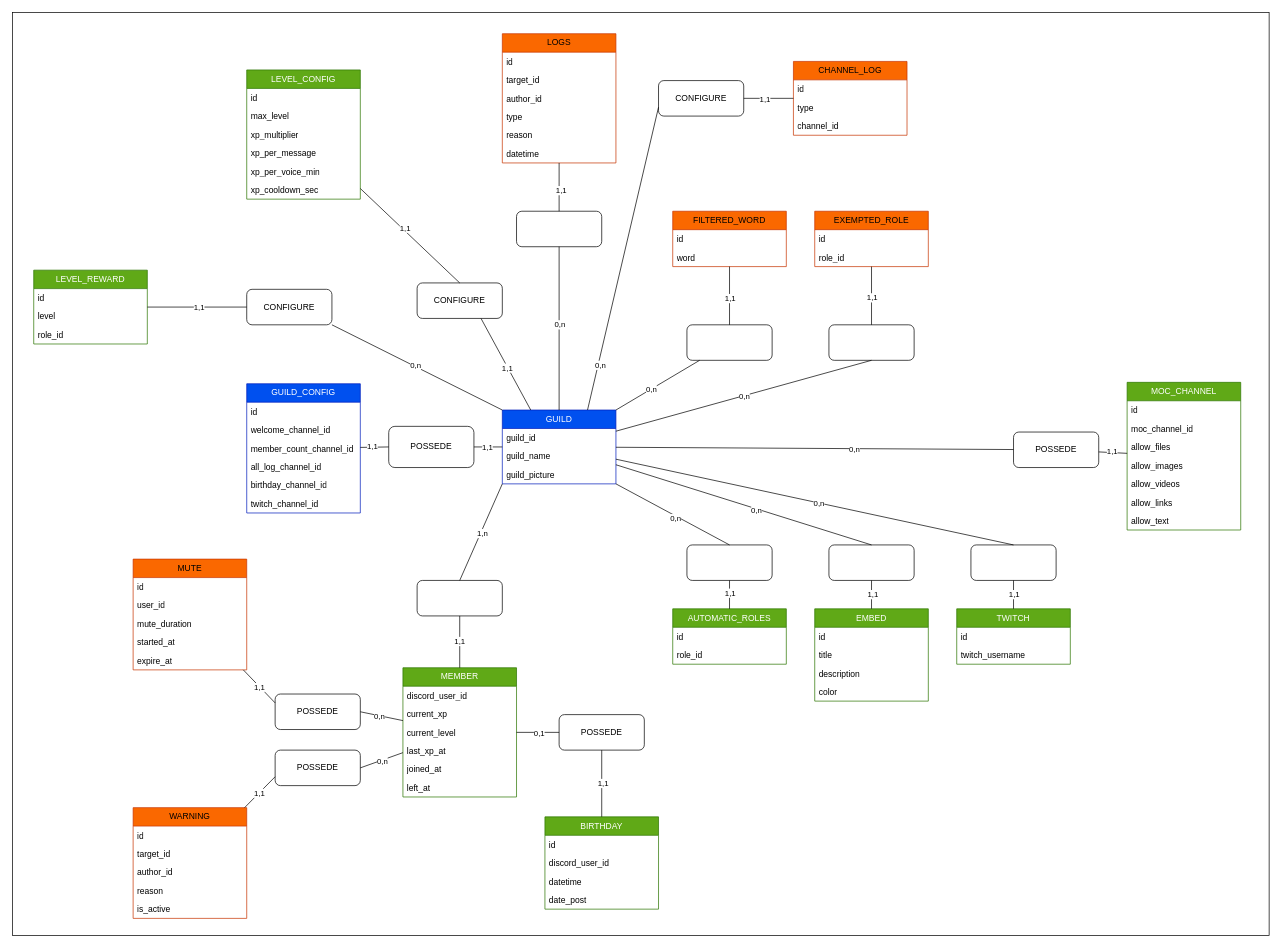
The diagram is 1282 pixels wide and 948 high, and some of its shapes have lost their labels. The shapes that lost their labels are listed below. From the top down, each one's centre as x and y in pixels, then its label:
At pixel 559 229: "ENREGISTRE".
At pixel 729 342: "INTERDIT".
At pixel 871 342: "GERE".
At pixel 729 562: "ATTRIBUT".
At pixel 871 562: "CREER".
At pixel 1013 562: "SURVEILLE".
At pixel 459 598: "CONTIENT".
